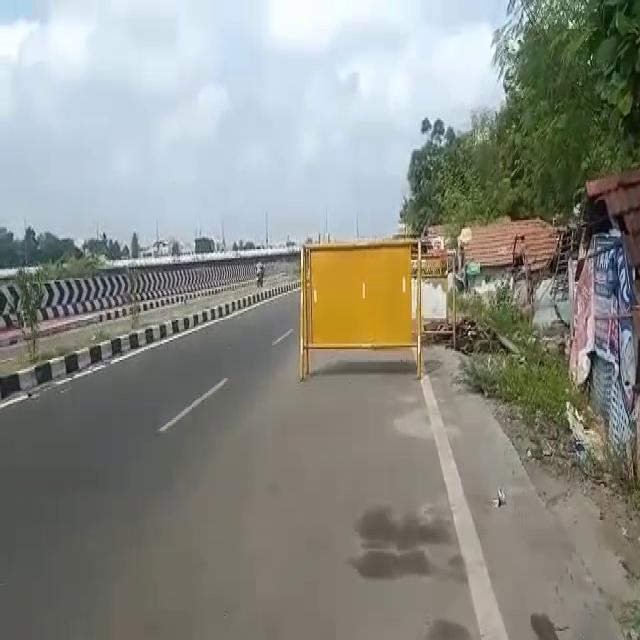fallen_object: (283, 227, 454, 402)
